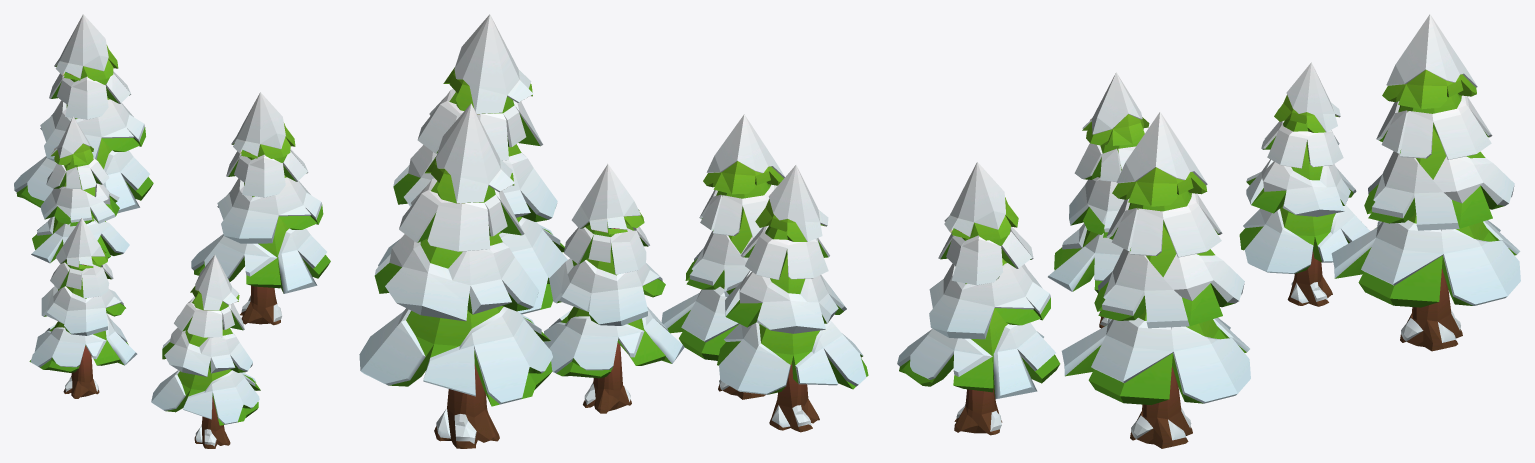
3 views of the same model, side by side, from view 1: azimuth 30°, elevation 25°; view 2: azimuth 150°, elevation 25°; view 3: azimuth 270°, elevation 25° (orthographic). The views are drawn at different scales.
Visible parts, largest first — view 1: SnowyTree (6), SnowyTree (9), SnowyTree (7), SnowyTree (10), SnowyTree (8); view 2: SnowyTree (9), SnowyTree (10), SnowyTree (8), SnowyTree (6), SnowyTree (7); view 3: SnowyTree (9), SnowyTree (6), SnowyTree (7), SnowyTree (8), SnowyTree (10).
Boxes of the visible parts, <box> form: SnowyTree (6): <box>191,92,330,325</box>; SnowyTree (9): <box>14,14,153,213</box>; SnowyTree (7): <box>151,255,260,448</box>; SnowyTree (10): <box>29,218,137,398</box>; SnowyTree (8): <box>31,116,129,263</box>; SnowyTree (9): <box>359,103,552,448</box>; SnowyTree (10): <box>717,165,868,432</box>; SnowyTree (8): <box>544,164,684,413</box>; SnowyTree (6): <box>378,14,567,314</box>; SnowyTree (7): <box>661,114,784,399</box>; SnowyTree (9): <box>1331,14,1520,351</box>; SnowyTree (6): <box>1061,112,1250,448</box>; SnowyTree (7): <box>897,162,1060,435</box>; SnowyTree (8): <box>1239,62,1370,306</box>; SnowyTree (10): <box>1048,72,1149,328</box>.
Size of the model in its own units: 12.62 by 12.15 by 15.87.
Materials: 1 (1 with a texture image).
